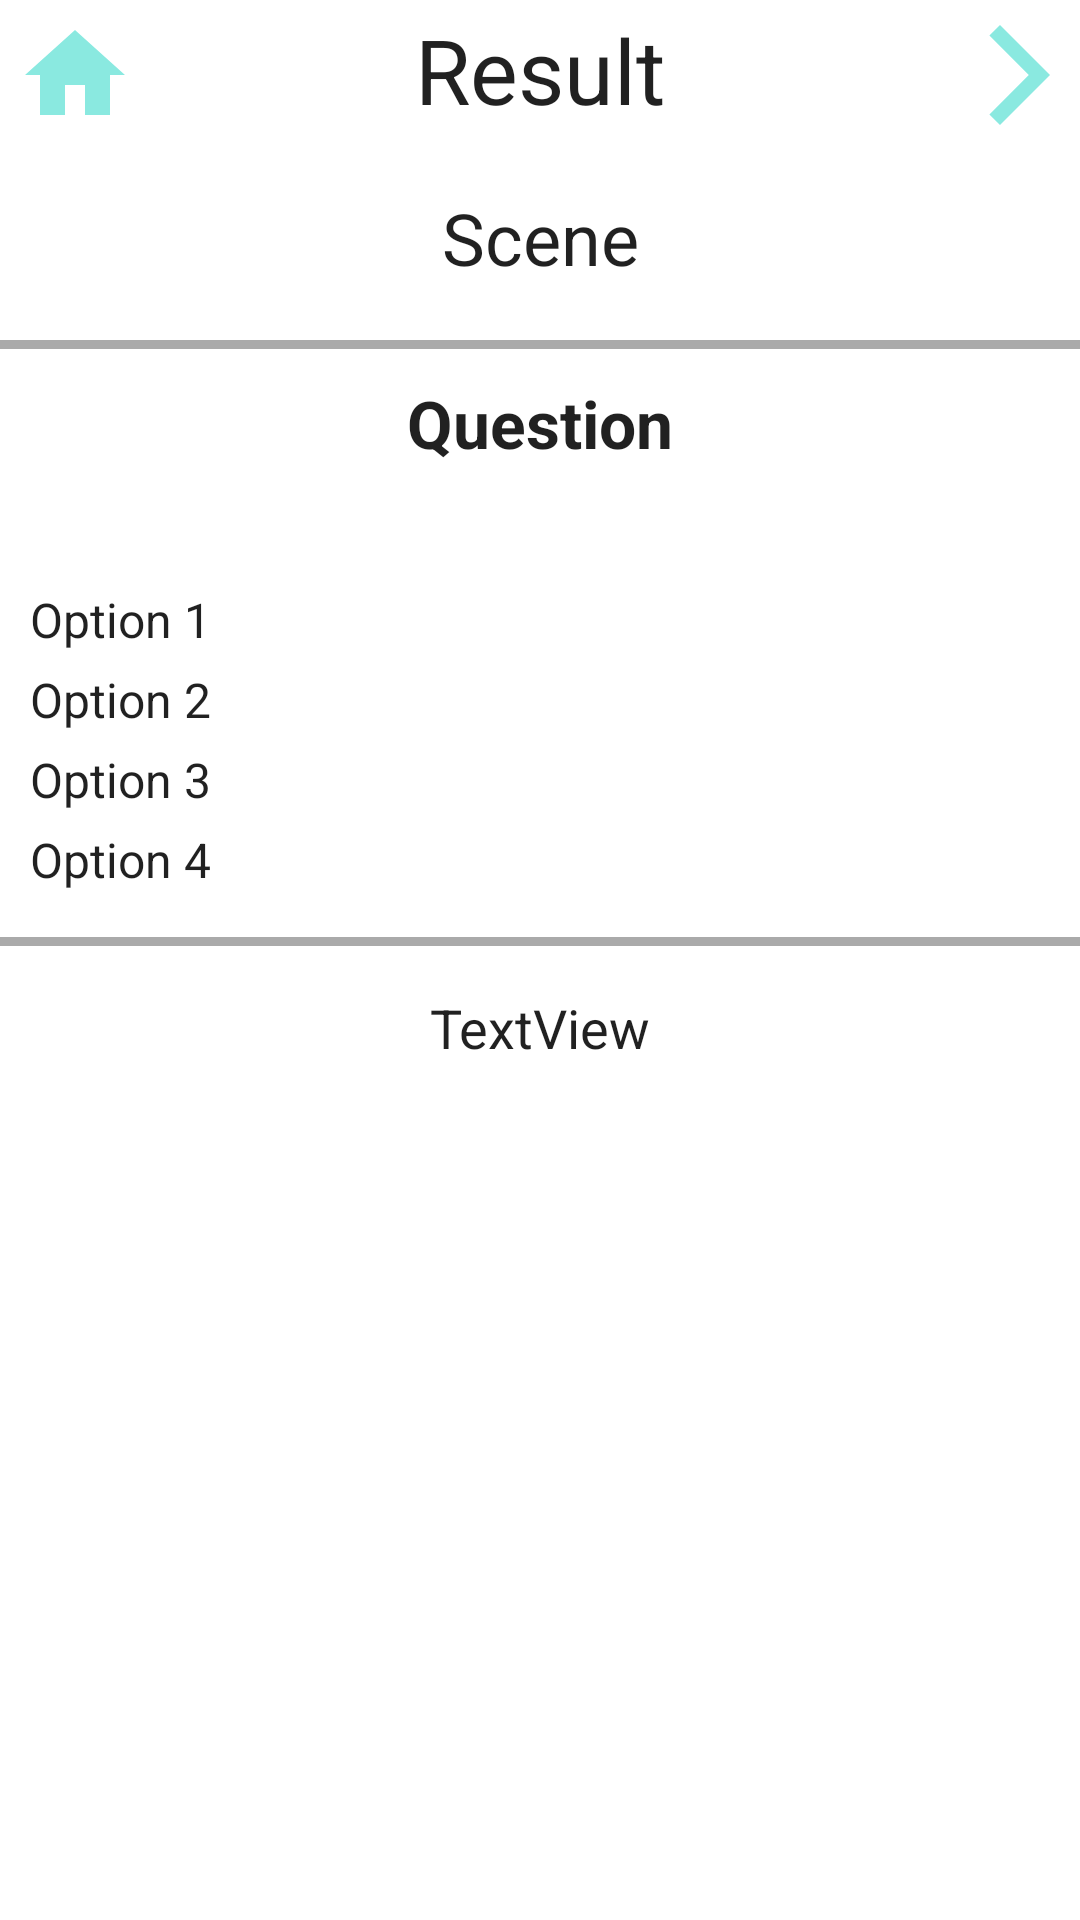

Icon click points for this 1080×1920 phone screenshot, format (x=x, y=y):
home: (x=75, y=72)
nextquestion: (x=1019, y=75)
